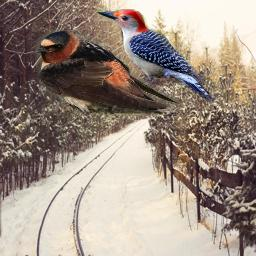Swallow: (35, 29, 181, 116)
Woodpecker: (96, 9, 214, 100)
